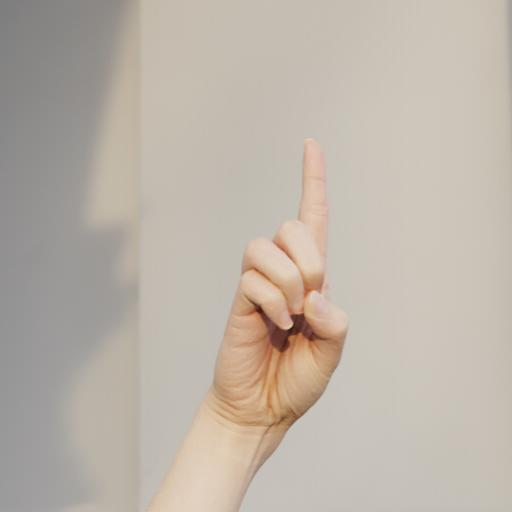D: (210, 133, 355, 425)
